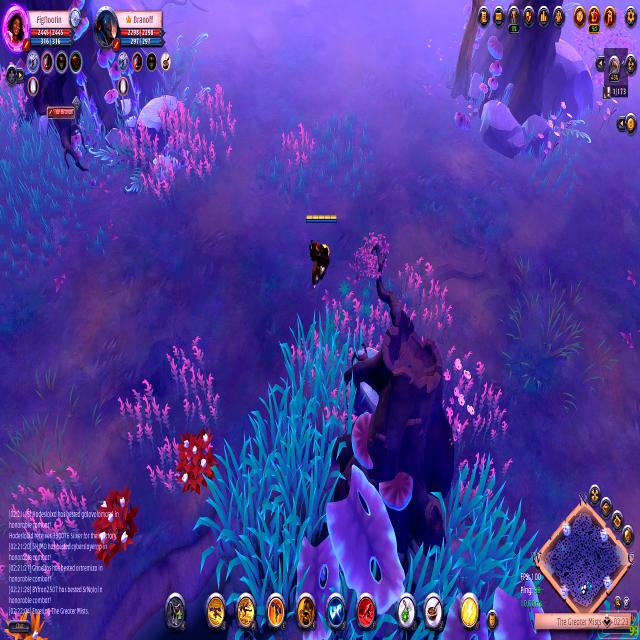hide: (84, 484, 142, 570), (172, 423, 220, 499), (2, 599, 50, 640)
red: (304, 212, 339, 293)
wisp caged: (448, 0, 492, 111)
